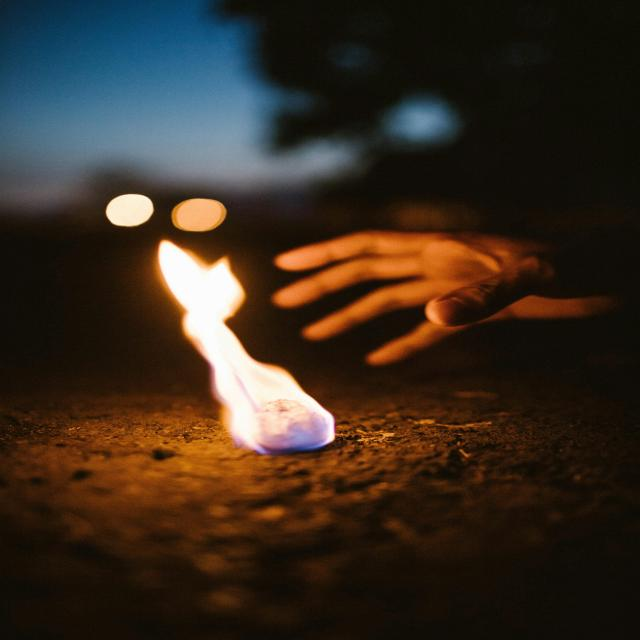fire: (157, 241, 335, 455)
